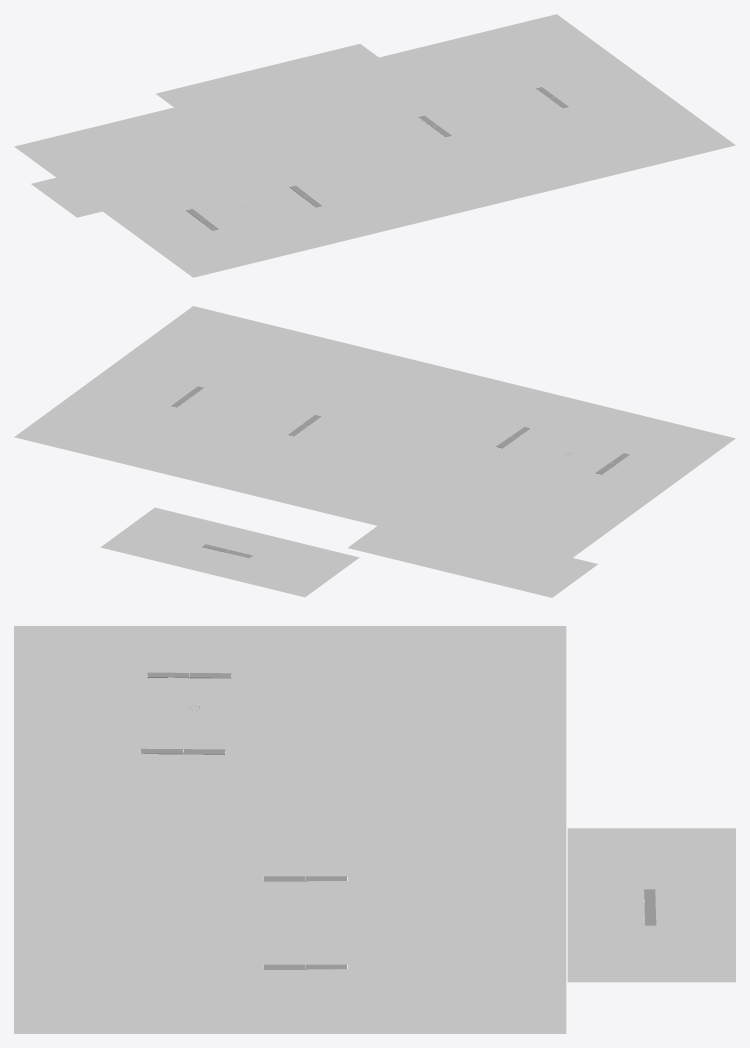
Rendered from tran nha.glb.
3 renders of one model, top to bottom at view 1: azimuth 30°, elevation 25°; view 2: azimuth 150°, elevation 25°; view 3: azimuth 270°, elevation 25°, orthographic. The views are drawn at different scales.
Visible parts, largest first — view 1: Plane, Plane.007, Plane.008; view 2: Plane, Plane.007, Plane.008; view 3: Plane, Plane.007.
Part boxes in pixels (<box>): Plane: <box>14,14,735,277</box>; Plane.007: <box>156,44,378,107</box>; Plane.008: <box>31,177,102,217</box>; Plane: <box>14,306,735,569</box>; Plane.007: <box>100,507,359,597</box>; Plane.008: <box>348,526,597,597</box>; Plane: <box>14,626,566,1033</box>; Plane.007: <box>567,828,735,982</box>.
Size of the model in its own units: 15.62 by 1.06 by 11.68.
Materials: 7 (7 with a texture image).
